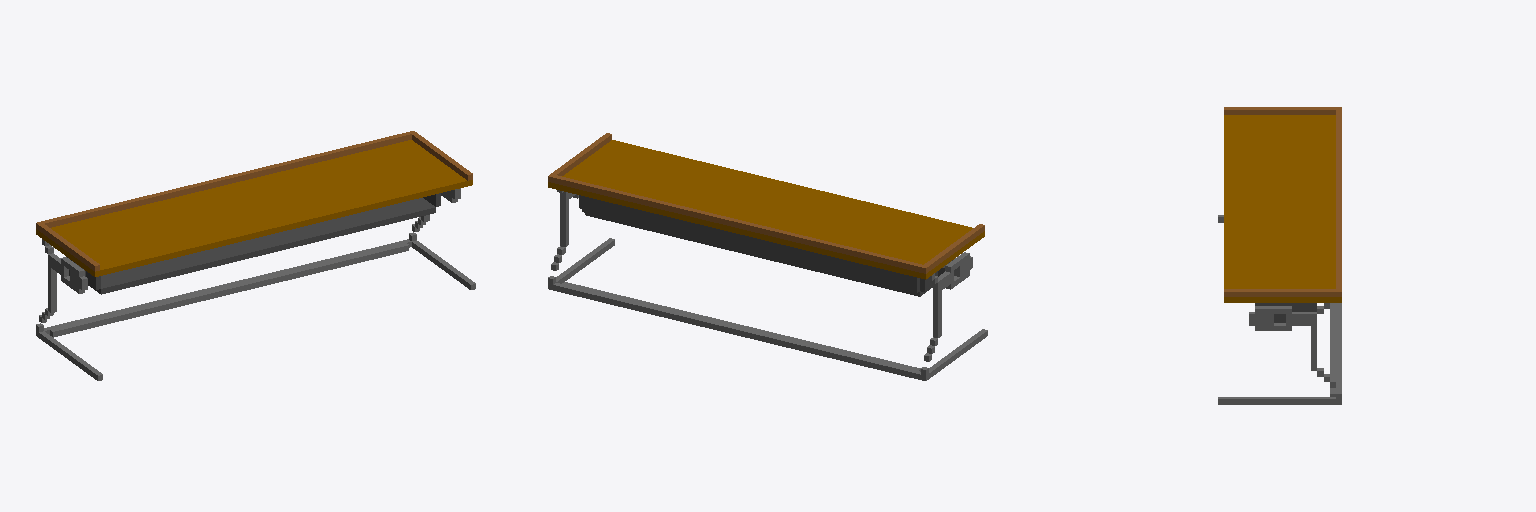
3 renders of one model, left to right at view 1: azimuth 30°, elevation 25°; view 2: azimuth 150°, elevation 25°; view 3: azimuth 270°, elevation 25°, orthographic.
Parts seen in each view (by area): view 1: object 1; view 2: object 1; view 3: object 1.
Part boxes in pixels (x1,y1,x2,y2): object 1: (36,131,475,380); object 1: (548,133,987,380); object 1: (1218,107,1341,404).
Bounding box in the file's own units: 7 × 2 × 2.
1 materials, 1 textured.